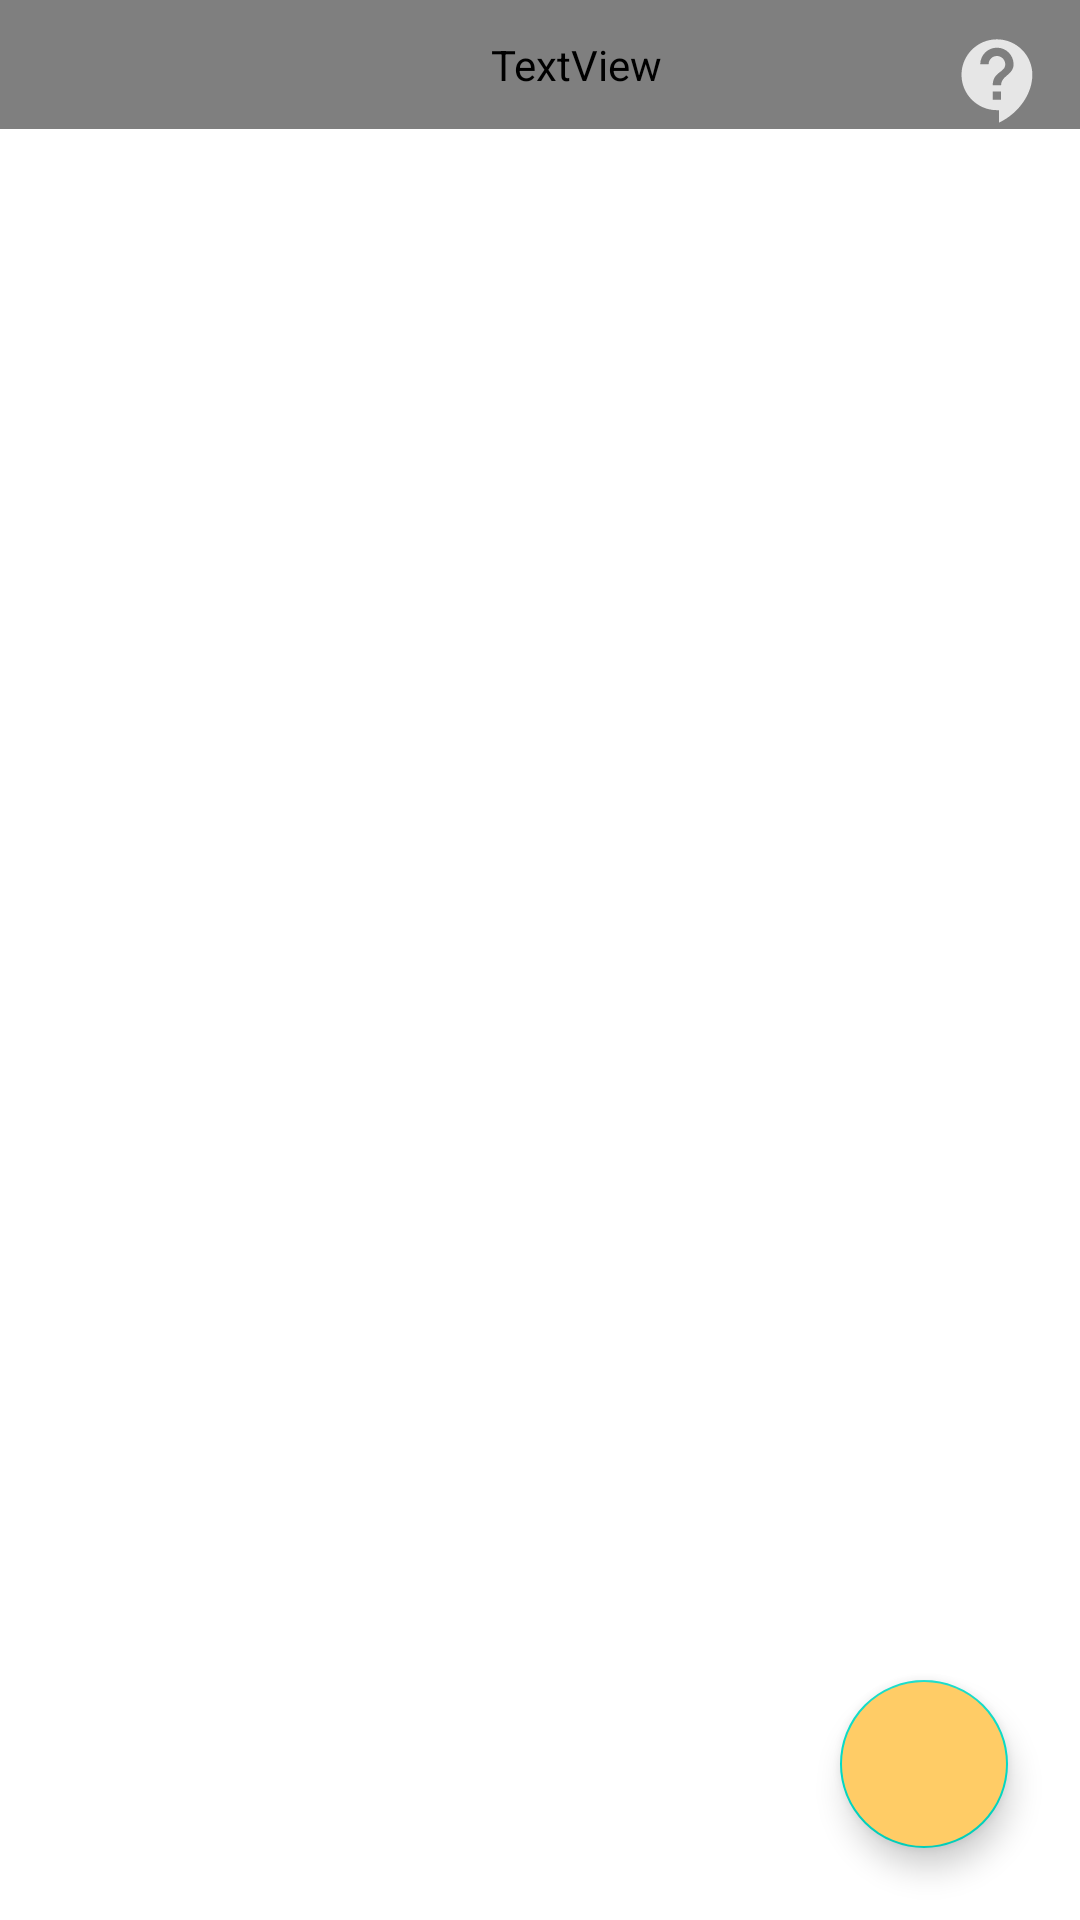

Icon click points for this 1080×1920 phone screenshot, format point (x, y):
information: point (997, 81)
